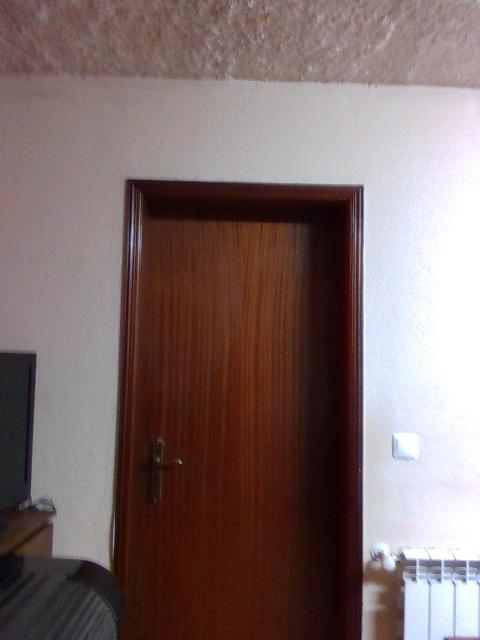door: (133, 219, 348, 640)
